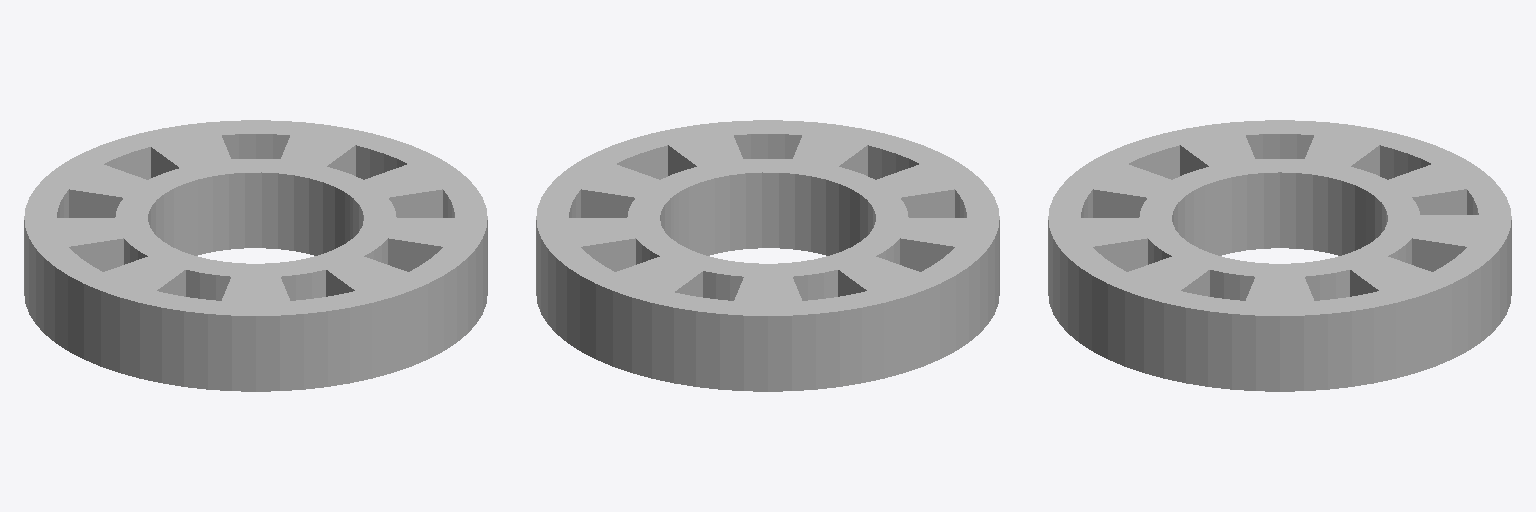
File: N4-002_pc_gfx.obj
The picture shows the model from 3 angles: view 1: azimuth 30°, elevation 25°; view 2: azimuth 150°, elevation 25°; view 3: azimuth 270°, elevation 25°; orthographic projection.
Visible parts, largest first — view 1: N4-002; view 2: N4-002; view 3: N4-002.
Boxes of the visible parts, x1=… form: N4-002: x1=24, y1=120, x2=487, y2=391; N4-002: x1=536, y1=120, x2=999, y2=391; N4-002: x1=1048, y1=120, x2=1511, y2=391.
Bounding box in the file's own units: 0.4075 × 0.0735 × 0.4075.